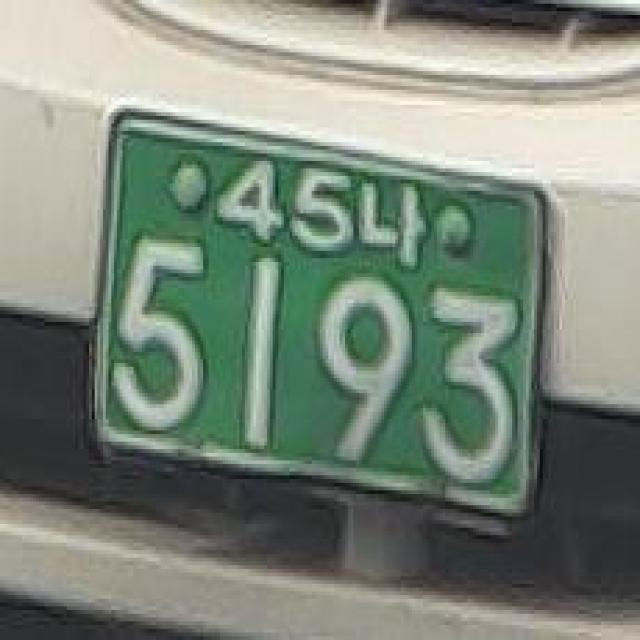illegal_plate: (80, 94, 570, 556)
